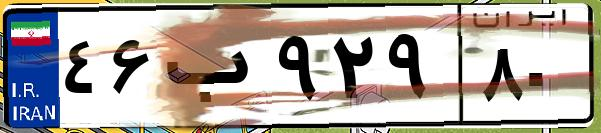0: (525, 38, 570, 115)
2: (330, 28, 385, 110)
4: (57, 26, 110, 100)
6: (110, 28, 158, 98)
8: (475, 38, 525, 113)
9: (270, 28, 330, 110), (385, 28, 445, 110)
ب: (158, 20, 270, 120)
